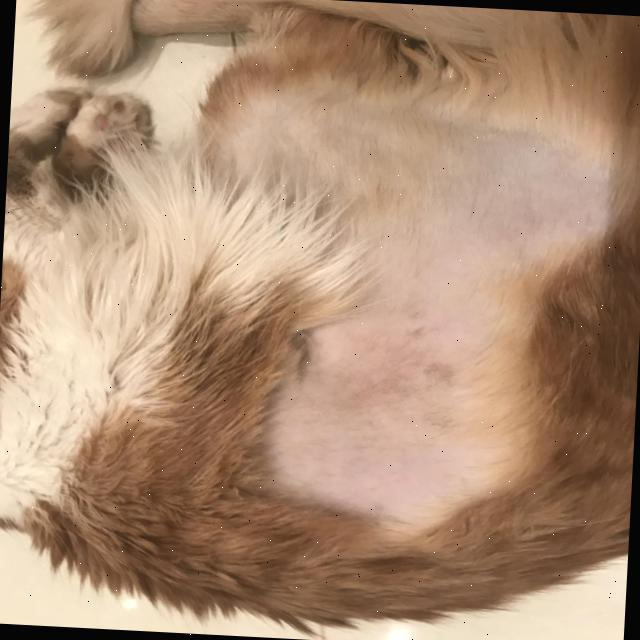cat-hairloss: (289, 102, 543, 486)
